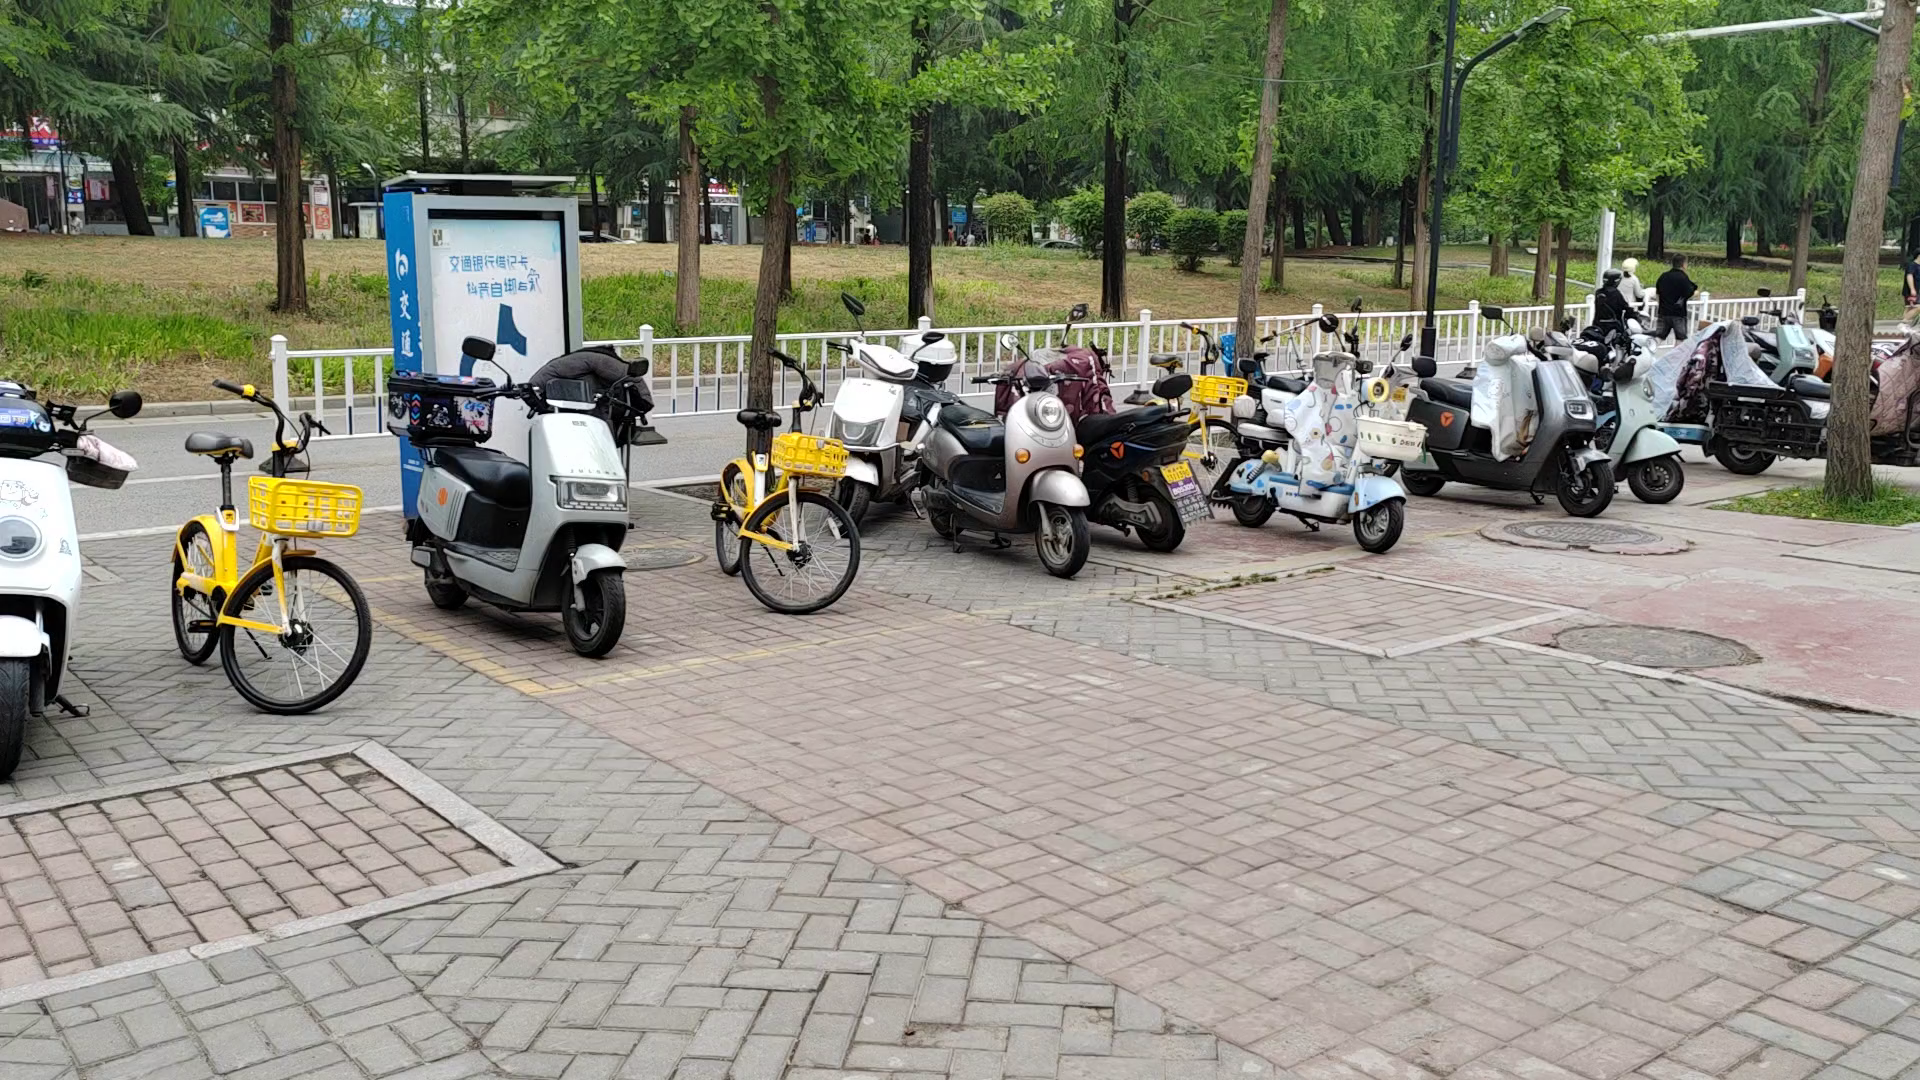others: (382, 355, 654, 665), (8, 392, 135, 781), (1399, 315, 1626, 522), (1683, 327, 1920, 525), (1038, 320, 1179, 571), (934, 361, 1083, 582), (1247, 397, 1443, 553), (829, 295, 953, 521)
shared_bike_meituan: (157, 378, 367, 709), (708, 345, 876, 642), (1135, 324, 1251, 481)
